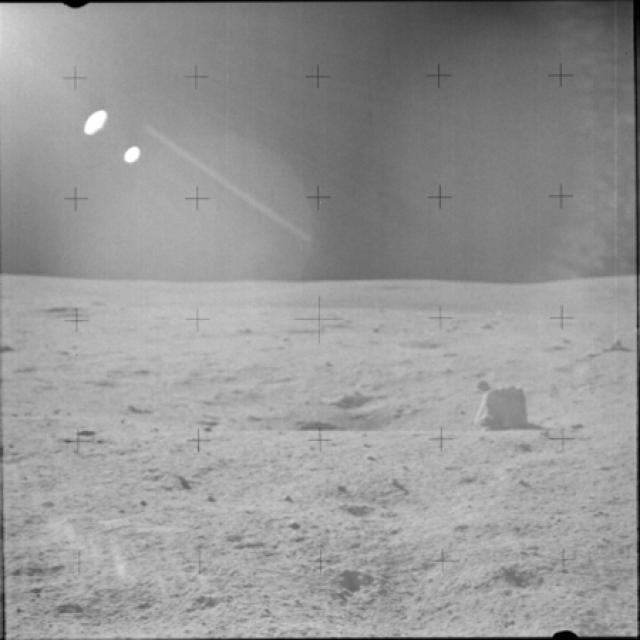crater: (316, 563, 404, 608), (492, 550, 566, 601), (390, 334, 487, 358), (326, 492, 382, 524)
rock: (458, 382, 537, 438), (594, 328, 627, 360)
